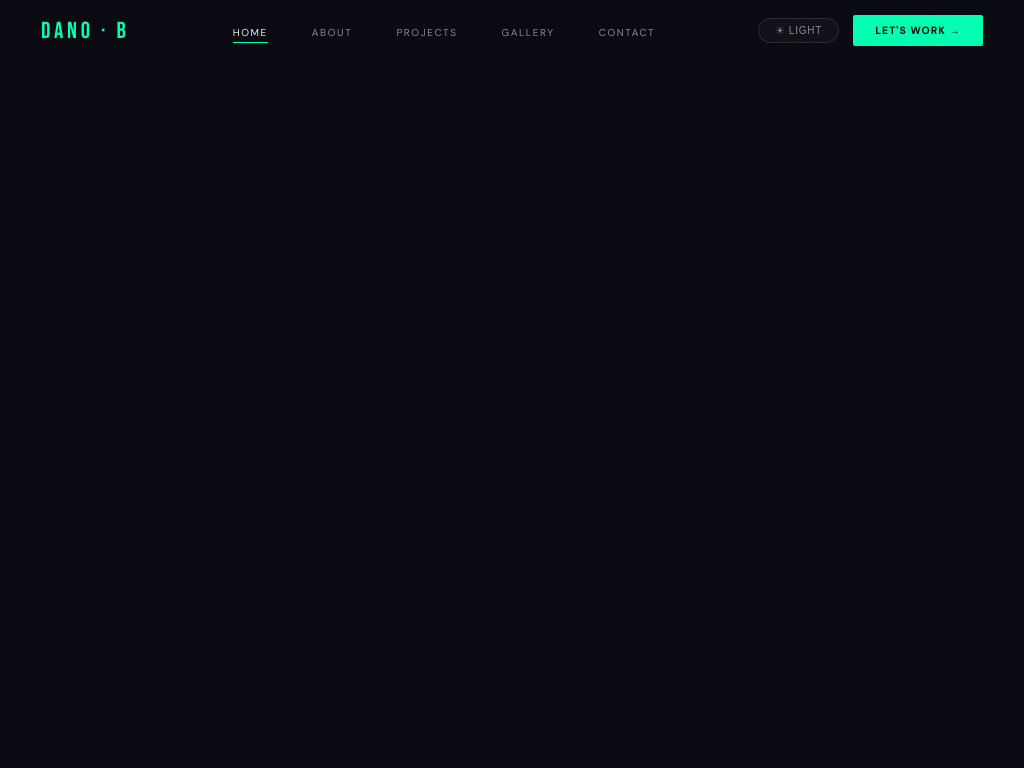
Nav › theme toggle switches label on click
Click the button with aria-label "switch to light mode". click: x=799, y=30
box: [758, 18, 839, 43]
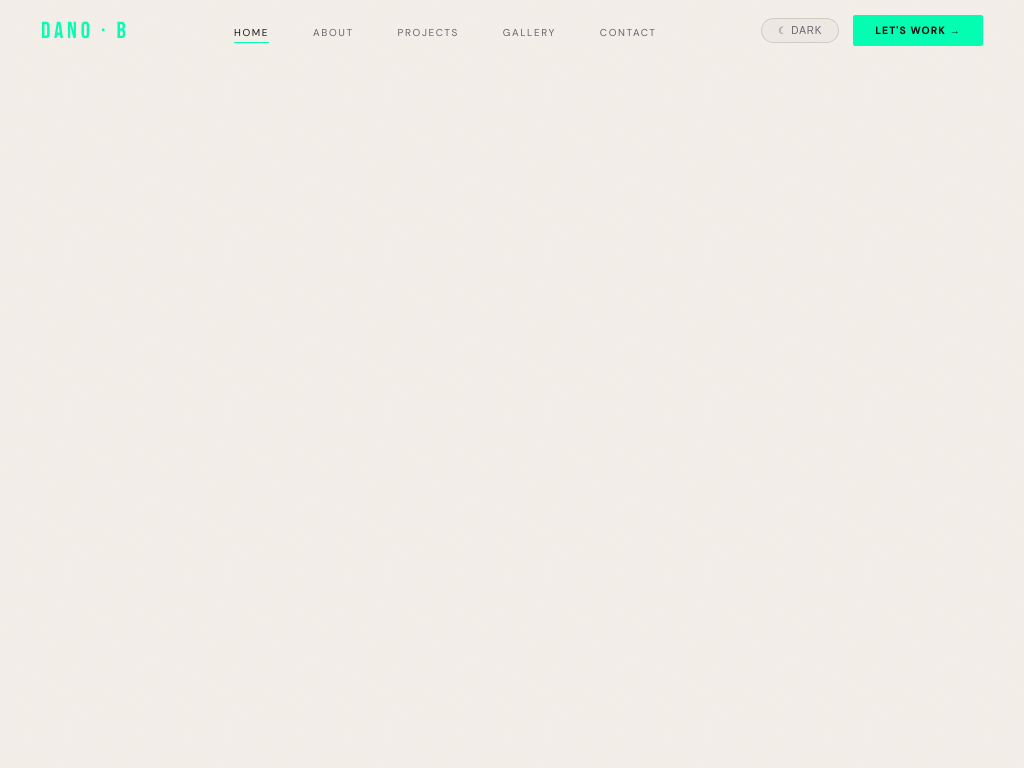
expect the button with aria-label "switch to dark mode" is shown: met, box [761, 18, 839, 43]
